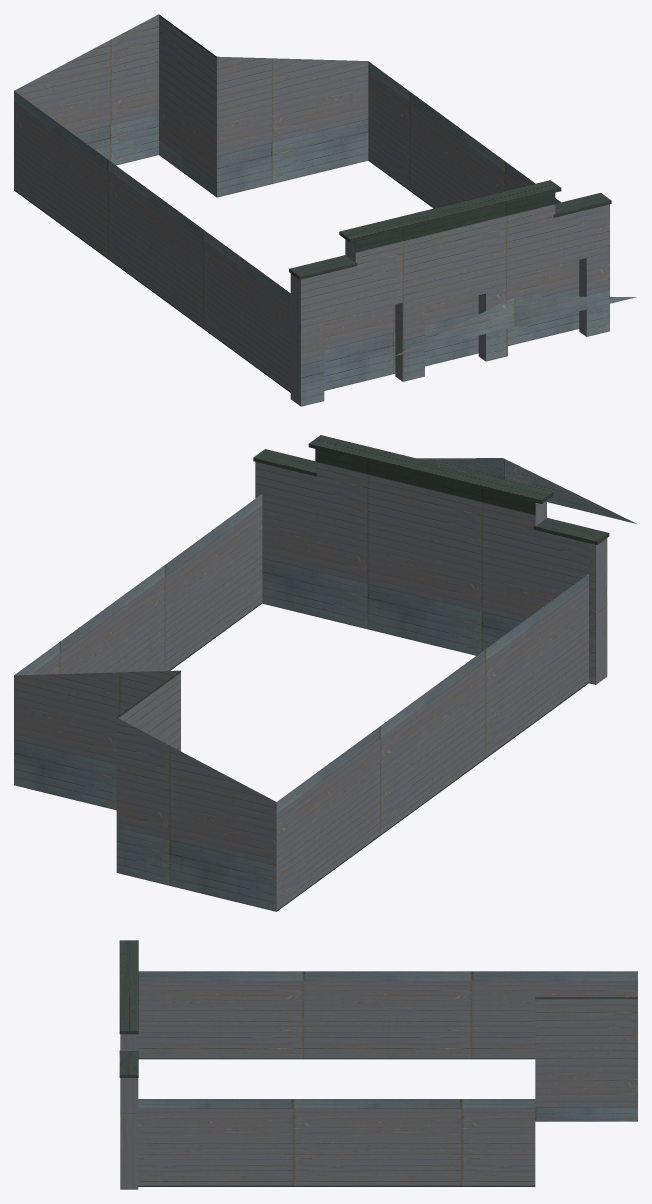
The model's file is rural_storesmall_2_rural_walltrim_1_0.glb.
3 renders of one model, top to bottom at view 1: azimuth 30°, elevation 25°; view 2: azimuth 150°, elevation 25°; view 3: azimuth 270°, elevation 25°, orthographic. The views are drawn at different scales.
Visible parts, largest first — view 1: Rural_StoreSmall_2_Rural_Walltrim_1_0; view 2: Rural_StoreSmall_2_Rural_Walltrim_1_0; view 3: Rural_StoreSmall_2_Rural_Walltrim_1_0.
Boxes of the visible parts, bbox=[...] form: Rural_StoreSmall_2_Rural_Walltrim_1_0: bbox=[14, 14, 636, 406]; Rural_StoreSmall_2_Rural_Walltrim_1_0: bbox=[14, 435, 636, 911]; Rural_StoreSmall_2_Rural_Walltrim_1_0: bbox=[119, 940, 637, 1189].
Size of the model in its own units: 7.48 by 3.56 by 14.69.
Materials: 1 (1 with a texture image).
